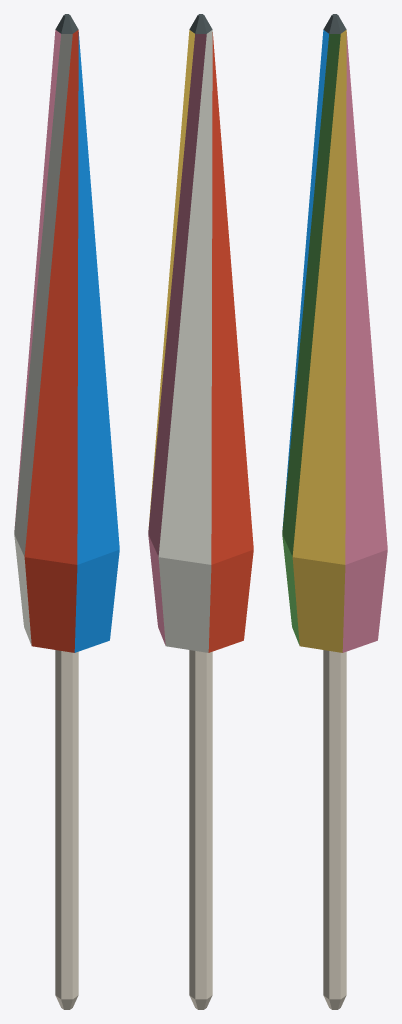
Rendered from Umbrella_B_Closed.fbx.
3 views of the same model, side by side, from view 1: azimuth 90°, elevation 25°; view 2: azimuth 150°, elevation 25°; view 3: azimuth 270°, elevation 25° (orthographic).
Parts seen in each view (by area): view 1: Umbrella_B_Closed; view 2: Umbrella_B_Closed; view 3: Umbrella_B_Closed.
Boxes of the visible parts, <box> form: Umbrella_B_Closed: <box>14,14,119,1009</box>; Umbrella_B_Closed: <box>148,14,253,1009</box>; Umbrella_B_Closed: <box>282,14,387,1009</box>.
Size of the model in its own units: 18.89 by 188 by 18.16.
